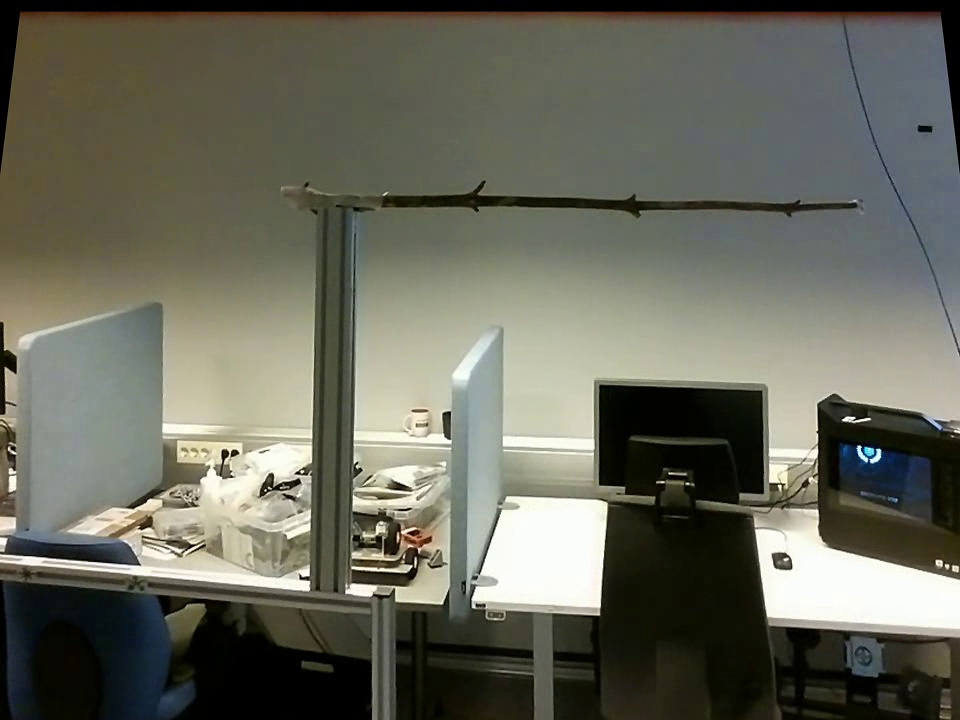aluminum_frame: (5, 548, 368, 618), (308, 209, 356, 593), (361, 585, 405, 712)
branch: (394, 169, 842, 228)
